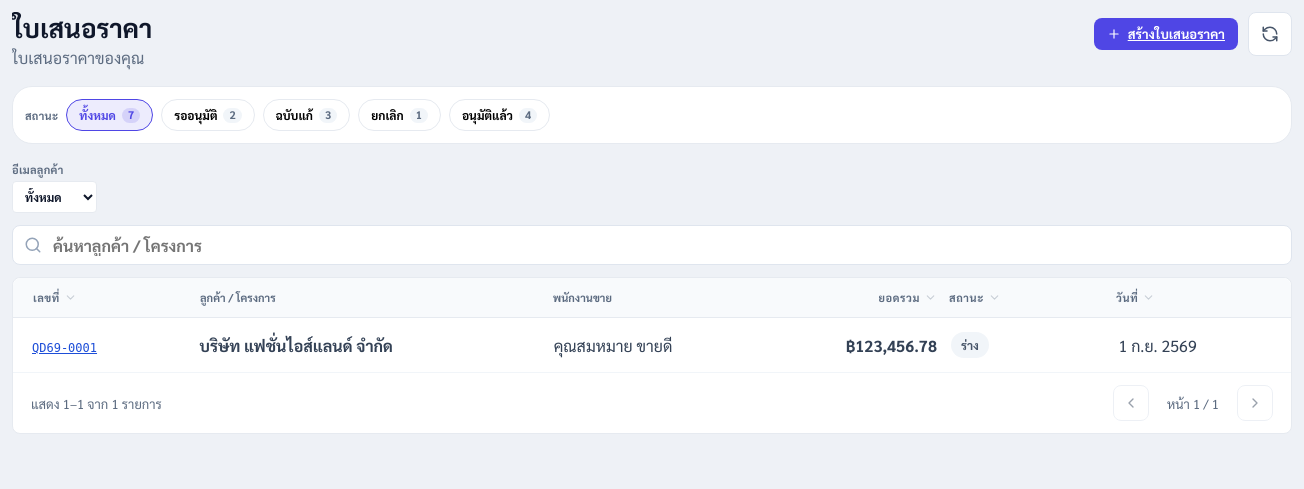
Test: QuotationListPage › drives the ฉบับแก้ tab off needsRework=true, not a docStatus, and writes it to the URL
Expected: the text "QD69-0001" is shown, top-left (32, 341), bottom-right (97, 355)
Click the tab "ฉบับแก้ 3".
click(306, 115)  # box top-left (263, 99), bottom-right (350, 131)
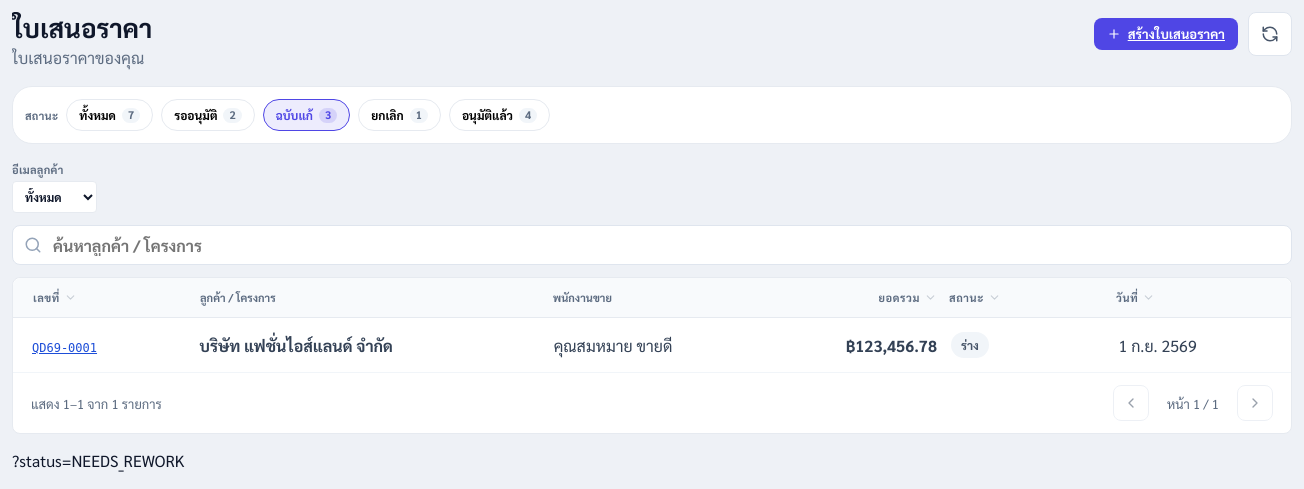
Expected: the text with test id "location-search" reads "?status=NEEDS_REWORK", top-left (12, 450), bottom-right (184, 471)
